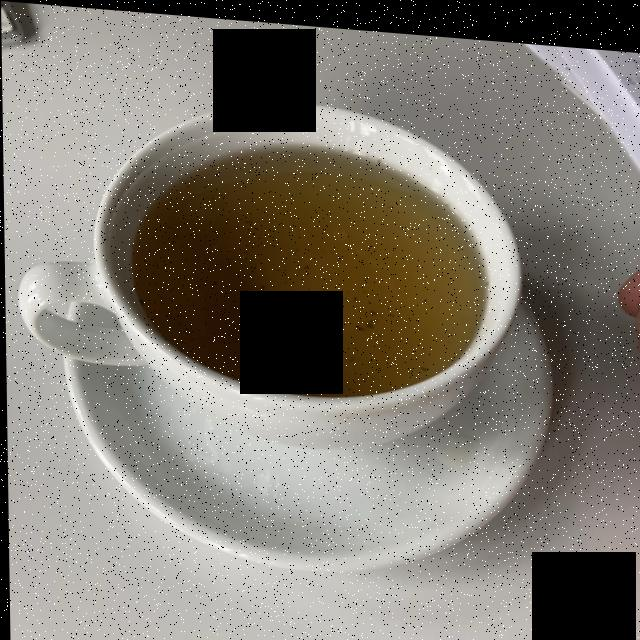tea-green: (129, 148, 480, 387)
